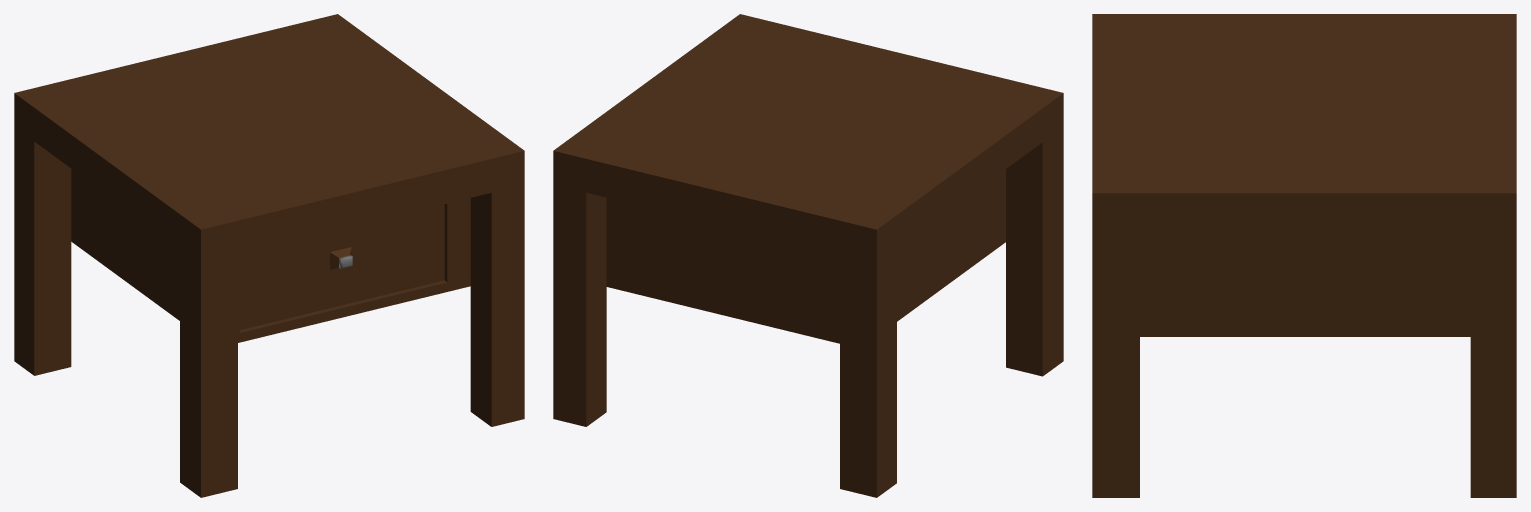
File: EndTable.FBX
The picture shows the model from 3 angles, left to right: view 1: azimuth 30°, elevation 25°; view 2: azimuth 150°, elevation 25°; view 3: azimuth 270°, elevation 25°; orthographic projection. The views are drawn at different scales.
Parts seen in each view (by area): view 1: EndTable; view 2: EndTable; view 3: EndTable.
Boxes of the visible parts, x1,y1,x2,y2 form: EndTable: (14,14,524,497); EndTable: (553,14,1063,497); EndTable: (1092,14,1516,497).
Bounding box in the file's own units: 70.14 × 55.55 × 70.14.
